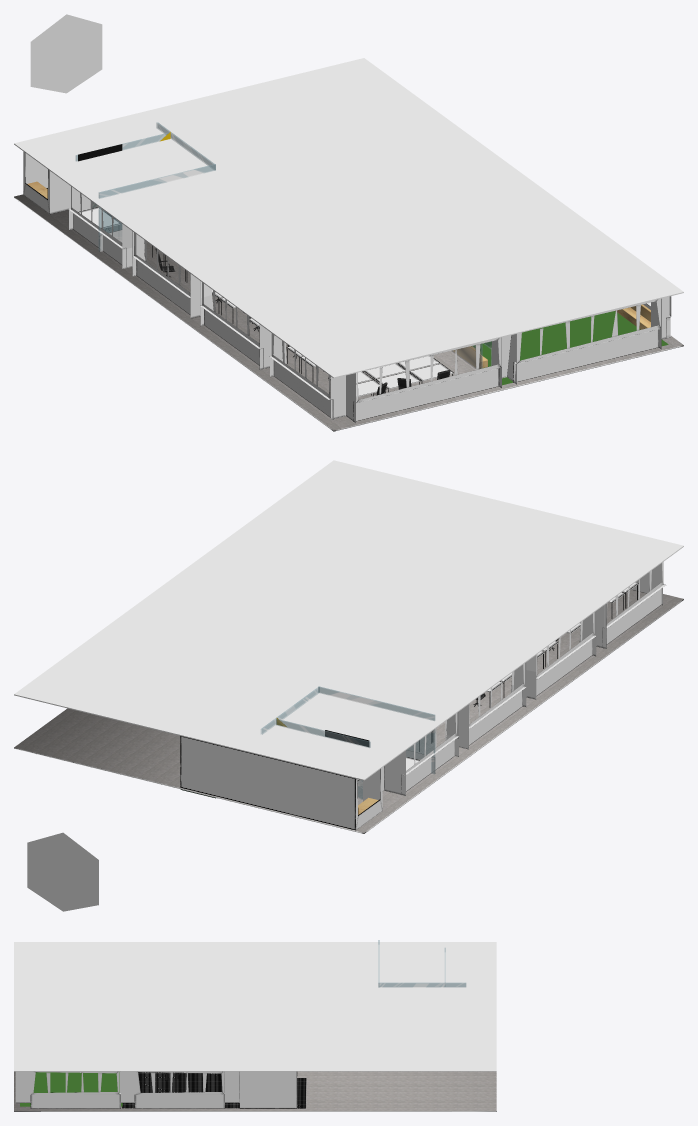
The model's file is planta6.obj.
3 views of the same model, one above another, from view 1: azimuth 30°, elevation 25°; view 2: azimuth 150°, elevation 25°; view 3: azimuth 270°, elevation 25° (orthographic). The views are drawn at different scales.
Visible parts, largest first — view 1: Techo_Cube.029, pared, comunicacion_Cylinder.026, cristalerasFrontales_Cube.002, banco_Cube.030, cristalera_entrada_Cube.001; view 2: Techo_Cube.029, pared, cristalerasFrontales_Cube.002, cristalera_entrada_Cube.001; view 3: Techo_Cube.029, pared, cristalera_entrada_Cube.001.
Part boxes in pixels (x1=…): Techo_Cube.029: x1=14, y1=58, x2=683, y2=378; pared: x1=14, y1=14, x2=683, y2=431; comunicacion_Cylinder.026: x1=328, y1=355, x2=453, y2=396; cristalerasFrontales_Cube.002: x1=98, y1=164, x2=215, y2=251; banco_Cube.030: x1=453, y1=304, x2=650, y2=368; cristalera_entrada_Cube.001: x1=75, y1=122, x2=215, y2=208; Techo_Cube.029: x1=14, y1=460, x2=683, y2=780; pared: x1=14, y1=562, x2=683, y2=911; cristalerasFrontales_Cube.002: x1=318, y1=686, x2=435, y2=773; cristalera_entrada_Cube.001: x1=261, y1=687, x2=370, y2=799; Techo_Cube.029: x1=14, y1=942, x2=496, y2=1071; pared: x1=14, y1=1071, x2=496, y2=1111; cristalera_entrada_Cube.001: x1=378, y1=948, x2=466, y2=987.
Bounding box in the file's own units: 9.76 × 2.43 × 21.43.
Materials: 32 (21 with a texture image).
